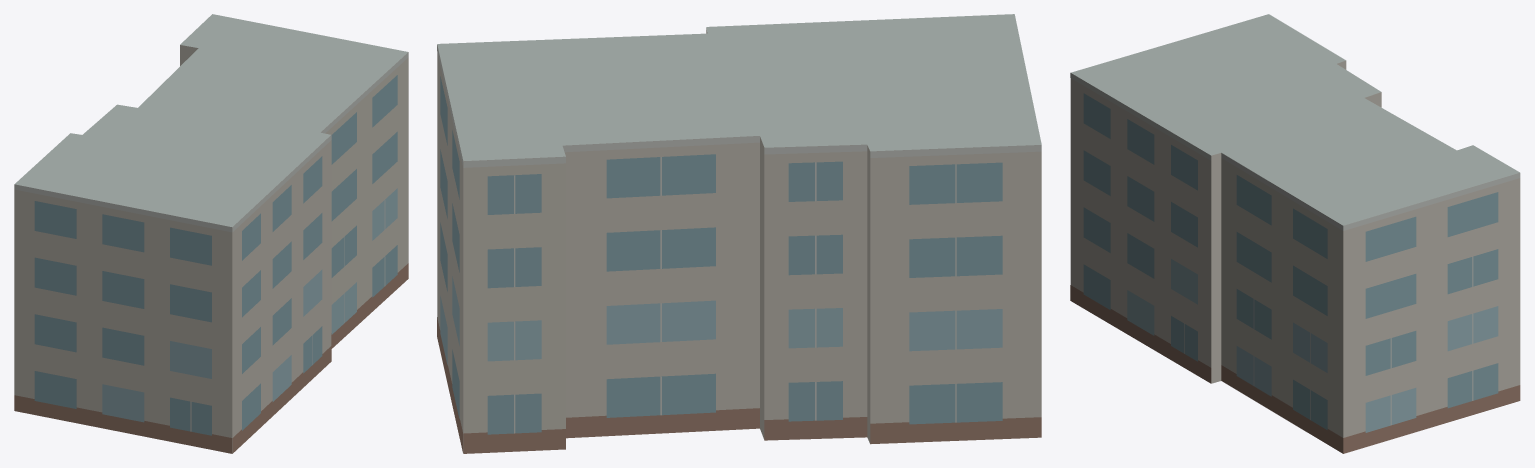
The model's file is survey-upis-32828973.glb.
3 renders of one model, left to right at view 1: azimuth 30°, elevation 25°; view 2: azimuth 150°, elevation 25°; view 3: azimuth 270°, elevation 25°, orthographic. The views are drawn at different scales.
Visible parts, largest first — view 1: survey-upis-32828973.tmp; view 2: survey-upis-32828973.tmp; view 3: survey-upis-32828973.tmp.
Boxes of the visible parts, left/top/right/bottom form: survey-upis-32828973.tmp: left=14, top=14, right=408, bottom=453; survey-upis-32828973.tmp: left=437, top=14, right=1041, bottom=453; survey-upis-32828973.tmp: left=1070, top=14, right=1520, bottom=453.
Bounding box in the file's own units: 21.09 × 10.59 × 18.93.
